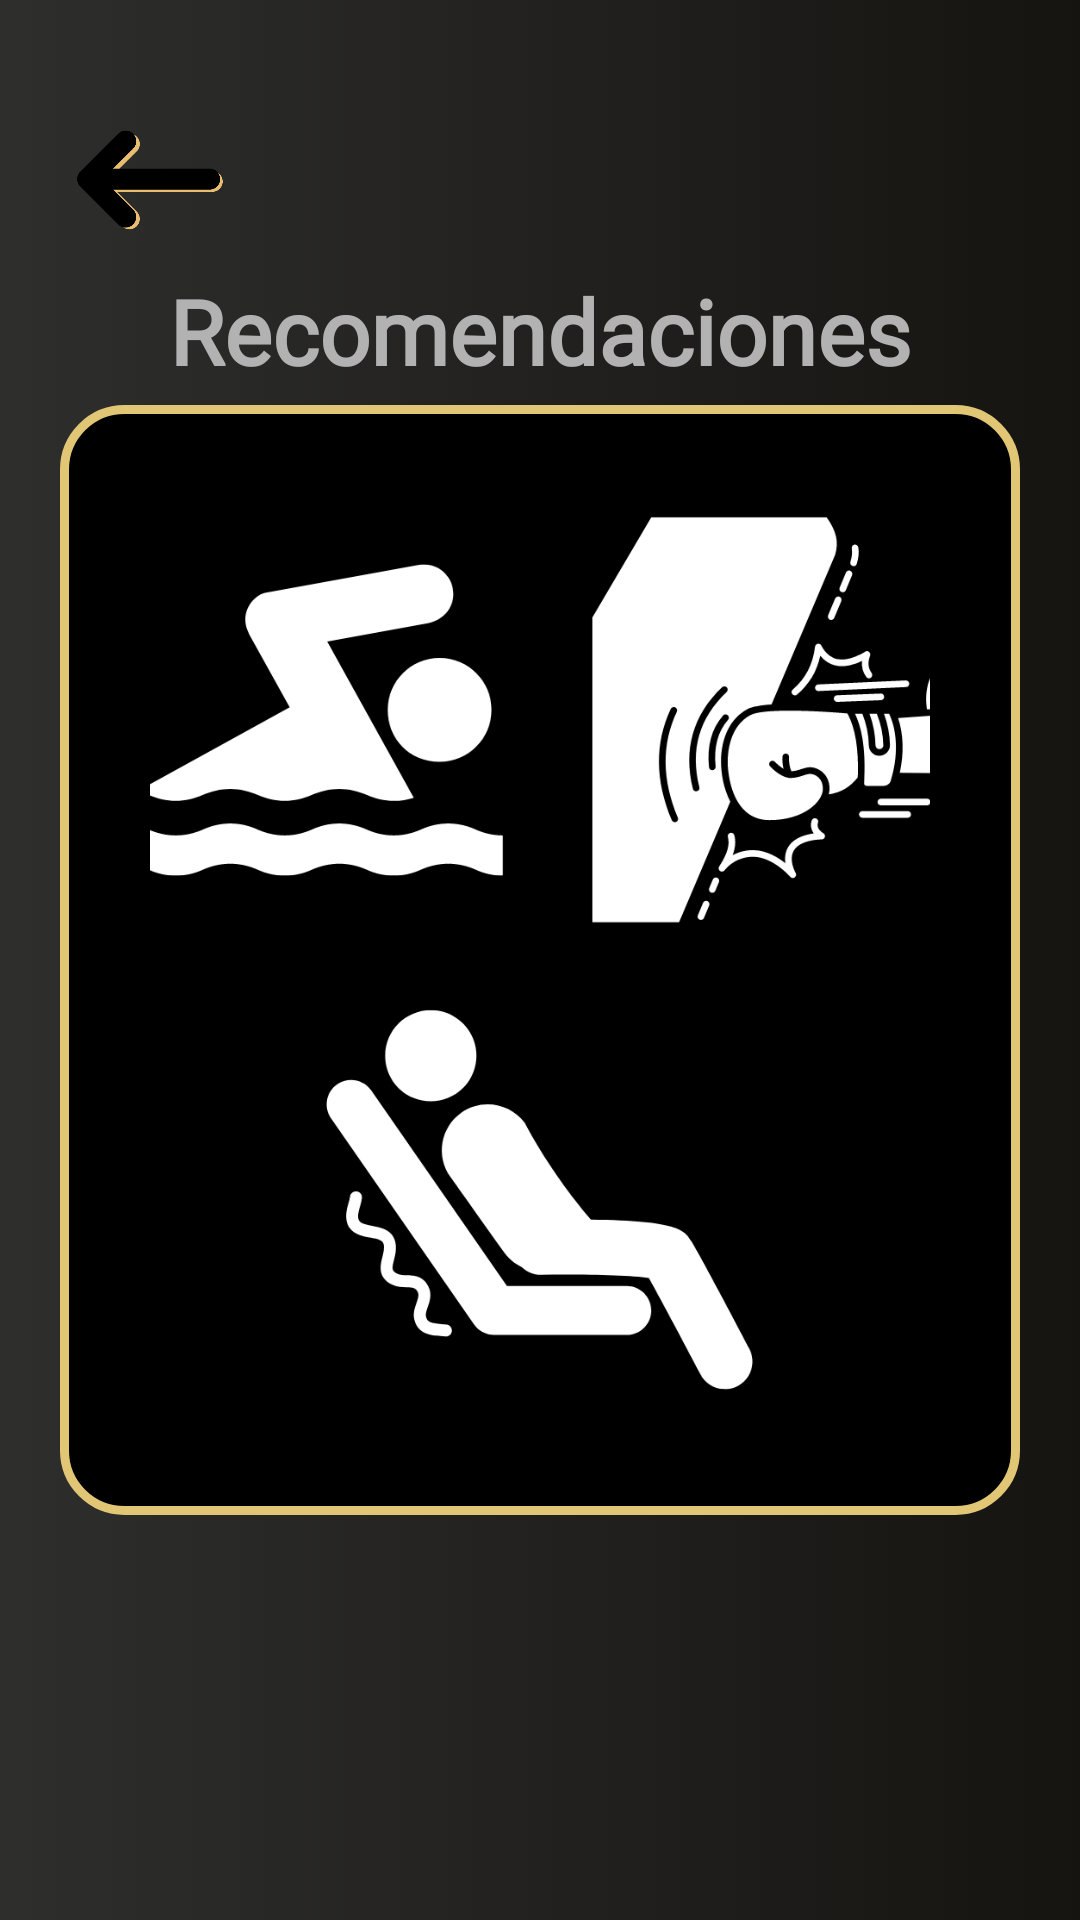

Point at icon controls on the screen. Image size 1080 x 1920, points as (x=x, y=y).
flechanegrodorado: (x=150, y=180)
